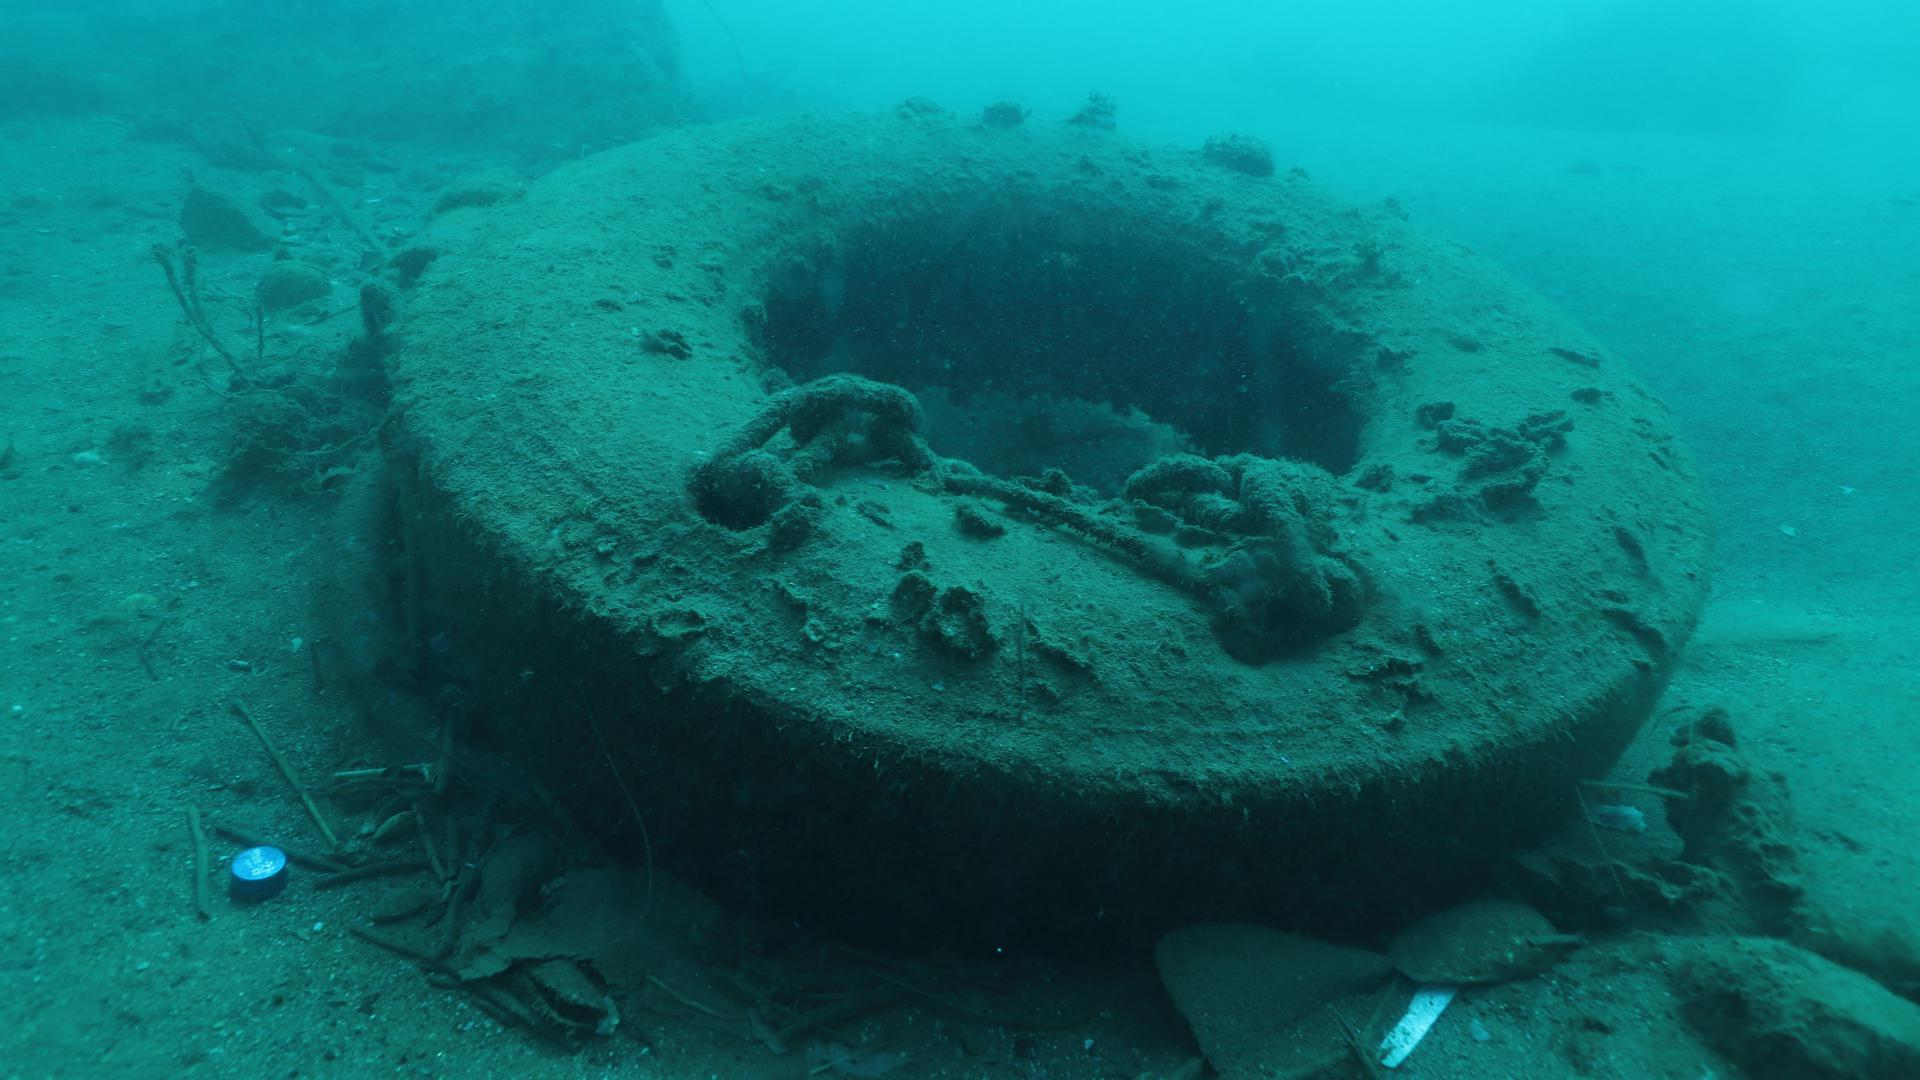tire: (384, 102, 1716, 964)
